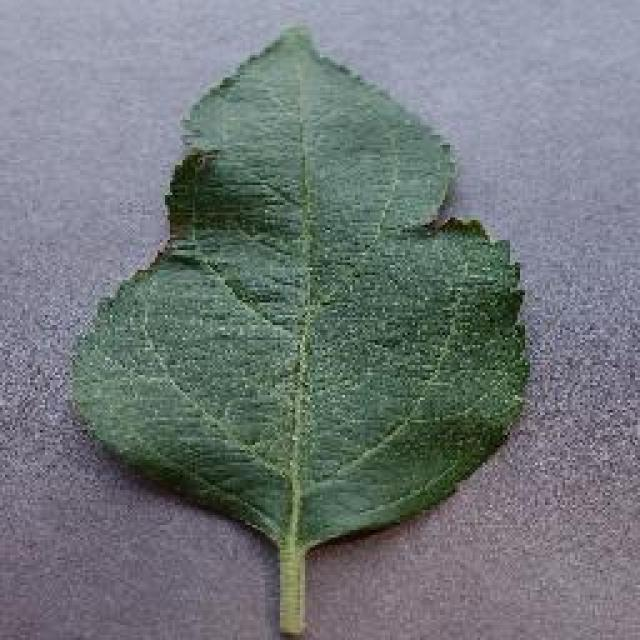apple healthy: (68, 20, 532, 638)
